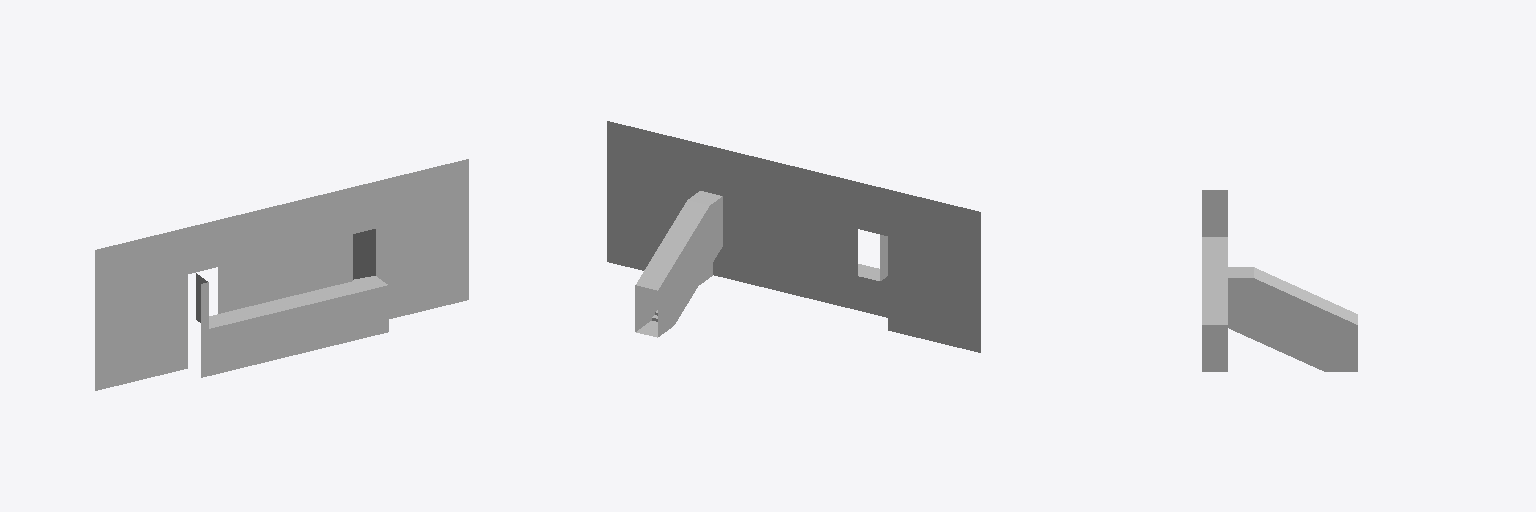
Rendered from floor_drop.obj.
The picture shows the model from 3 angles: view 1: azimuth 30°, elevation 25°; view 2: azimuth 150°, elevation 25°; view 3: azimuth 270°, elevation 25°; orthographic projection.
Size of the model in its own units: 1664 by 600 by 600.